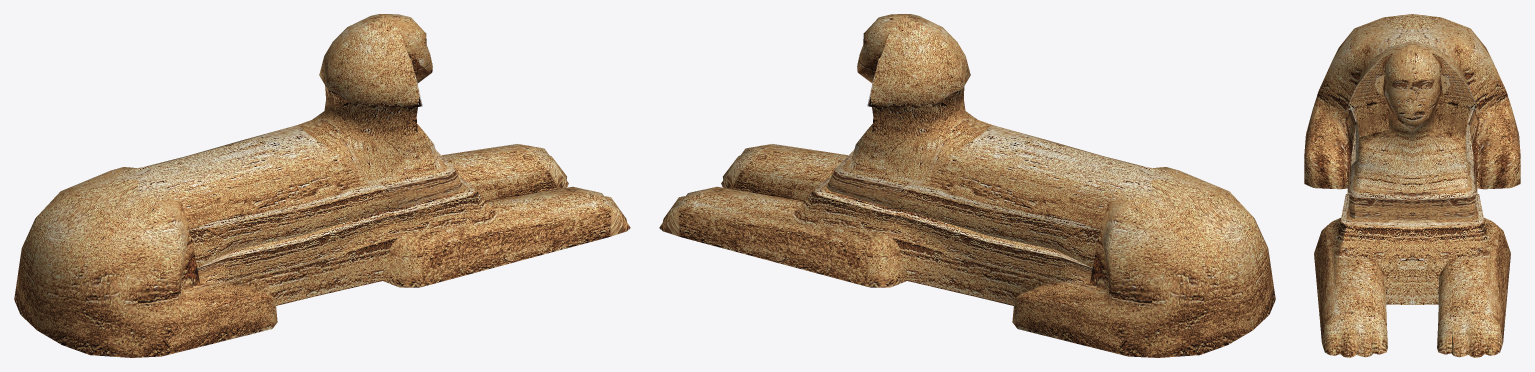
The model's file is Civilian - Civilian Building - Egyptian Sphinx - CMGSPYRA.glb.
3 views of the same model, side by side, from view 1: azimuth 30°, elevation 25°; view 2: azimuth 150°, elevation 25°; view 3: azimuth 270°, elevation 25° (orthographic). The views are drawn at different scales.
Parts seen in each view (by area): view 1: CMGSPYRA; view 2: CMGSPYRA; view 3: CMGSPYRA.
Boxes of the visible parts, bbox=[...] form: CMGSPYRA: bbox=[14, 14, 630, 357]; CMGSPYRA: bbox=[659, 14, 1275, 357]; CMGSPYRA: bbox=[1304, 14, 1520, 357].
Size of the model in its own units: 323 by 127 by 115.
Materials: 1 (1 with a texture image).
